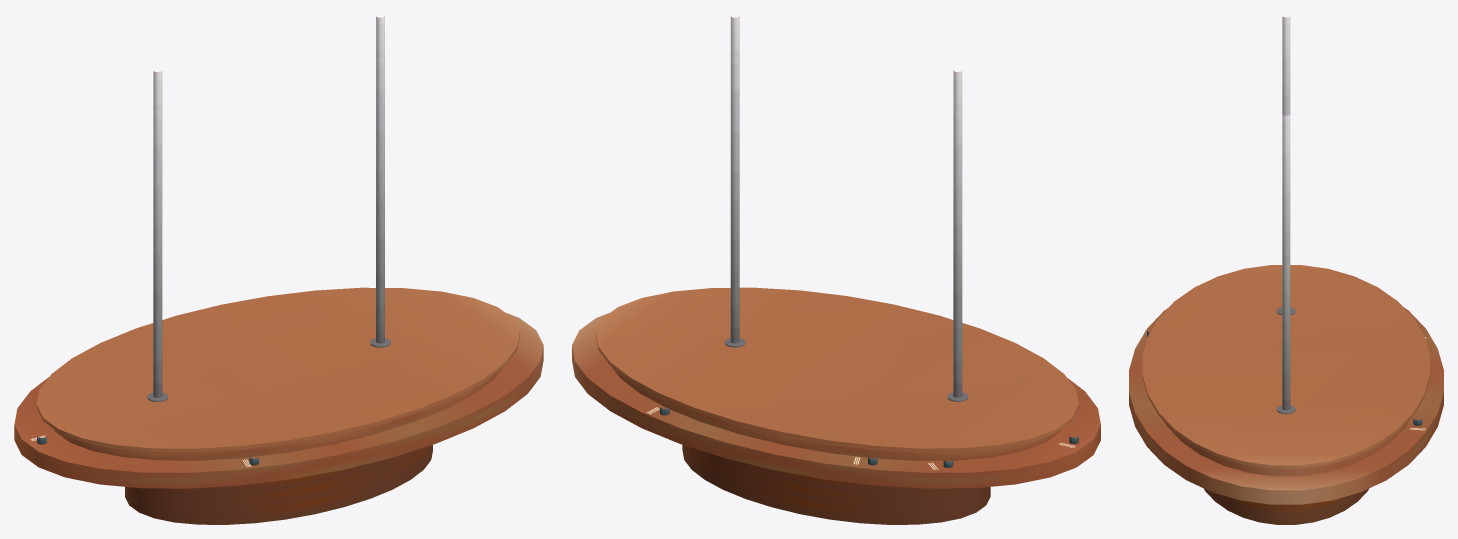
3 renders of one model, left to right at view 1: azimuth 30°, elevation 25°; view 2: azimuth 150°, elevation 25°; view 3: azimuth 270°, elevation 25°, orthographic. The views are drawn at different scales.
Visible parts, largest first — view 1: StripperTableGlassWCocaineLines; view 2: StripperTableGlassWCocaineLines; view 3: StripperTableGlassWCocaineLines.
Part boxes in pixels (<box>): StripperTableGlassWCocaineLines: <box>14,16,543,524</box>; StripperTableGlassWCocaineLines: <box>572,16,1100,524</box>; StripperTableGlassWCocaineLines: <box>1129,16,1443,524</box>.
Size of what is drawn, in the model's own units: 5.63 by 4.69 by 3.41.
Materials: 1 (1 with a texture image).
